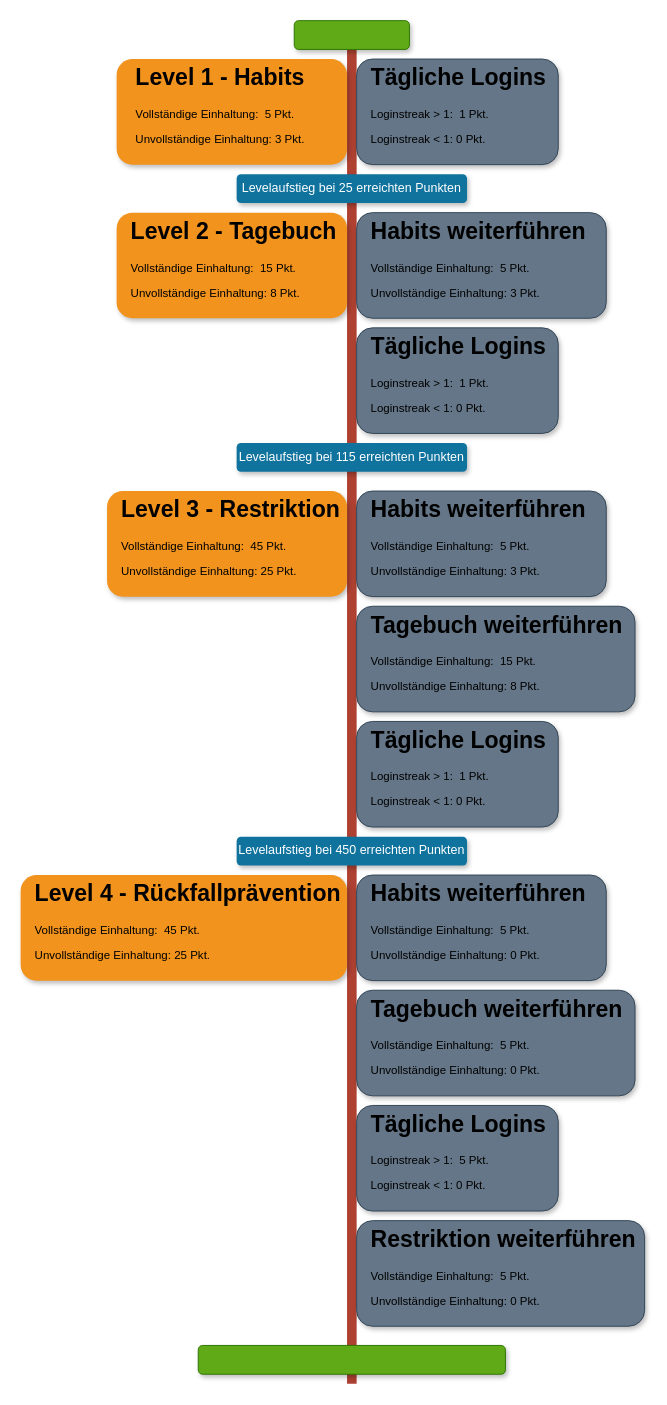
The diagram is 667 pixels wide and 1405 high, and some of its shapes have lost their labels. The shapes that lost their labels are listed below. From the top down, each one's centre as x and y in pixels, then its label:
At point (352, 36): "Therapie Start".
At point (352, 1361): "Therapie Ende bei 650 erreichten Punkten".
